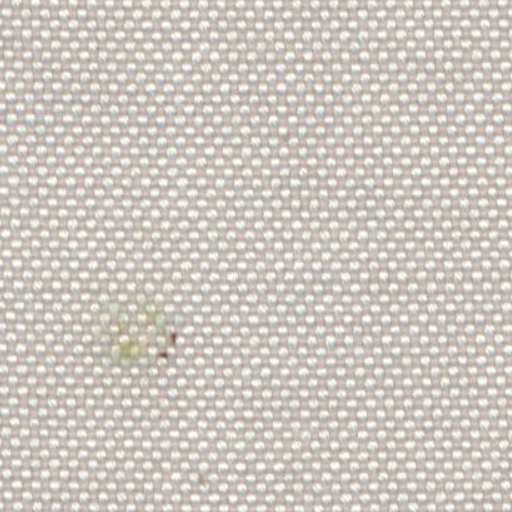WuZi: (84, 286, 192, 384), (184, 466, 218, 490)
